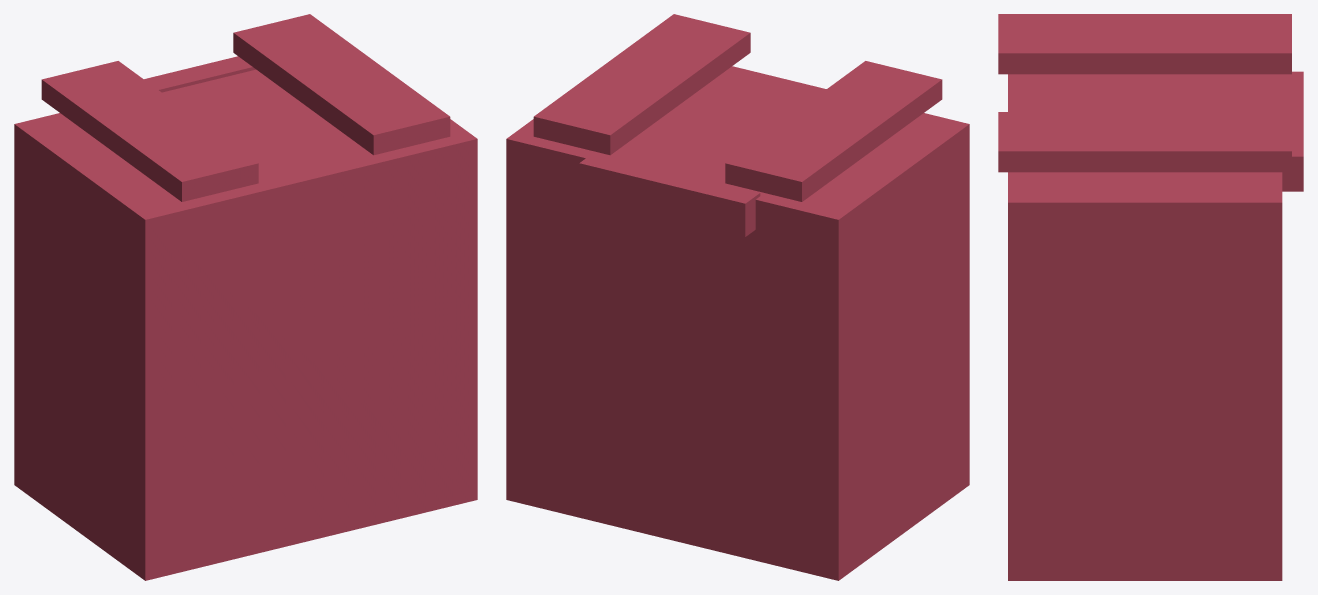
Rendered from jeans_rasgado_tronco.glb.
3 renders of one model, left to right at view 1: azimuth 30°, elevation 25°; view 2: azimuth 150°, elevation 25°; view 3: azimuth 270°, elevation 25°, orthographic. The views are drawn at different scales.
Visible parts, largest first — view 1: jeans_rasgado_tronco; view 2: jeans_rasgado_tronco; view 3: jeans_rasgado_tronco.
Part boxes in pixels (<box>): jeans_rasgado_tronco: <box>14,14,477,580</box>; jeans_rasgado_tronco: <box>506,14,969,580</box>; jeans_rasgado_tronco: <box>998,14,1303,580</box>.
Size of the model in its own units: 0.52 by 0.59 by 0.395.
